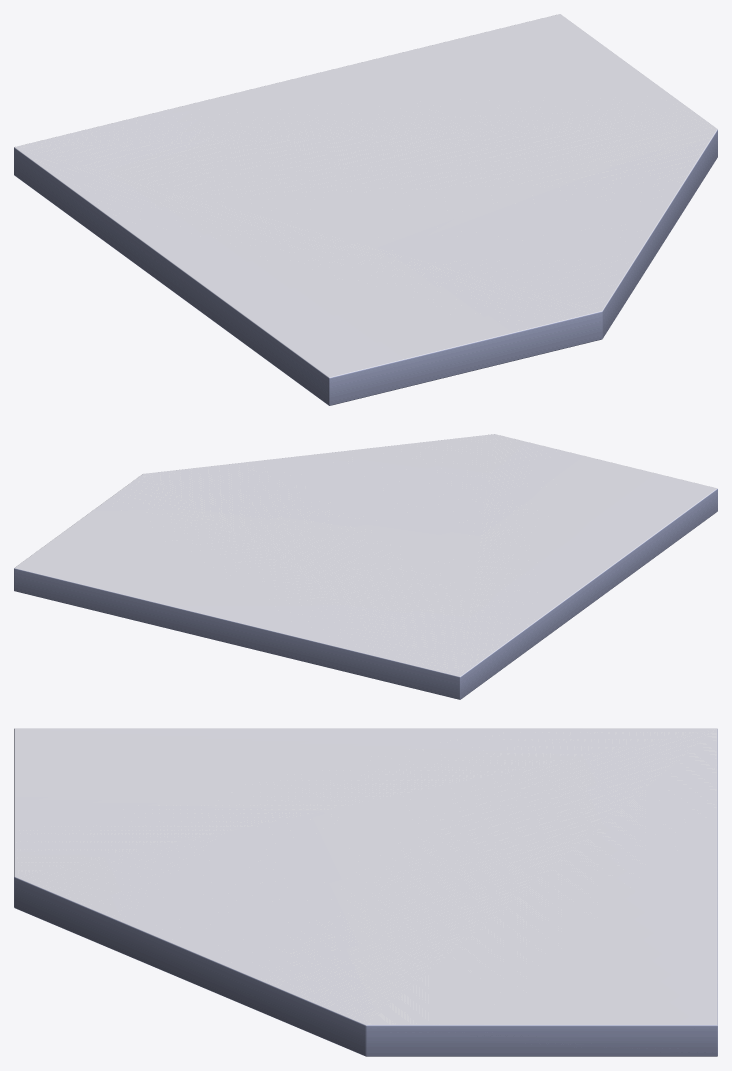
Rendered from floor-corner-diagonal.glb.
3 views of the same model, one above another, from view 1: azimuth 30°, elevation 25°; view 2: azimuth 150°, elevation 25°; view 3: azimuth 270°, elevation 25° (orthographic). The views are drawn at different scales.
Parts seen in each view (by area): view 1: floor-corner-diagonal; view 2: floor-corner-diagonal; view 3: floor-corner-diagonal.
Part boxes in pixels (x1,y1,x2,y2): floor-corner-diagonal: (14, 14, 717, 405); floor-corner-diagonal: (14, 434, 717, 699); floor-corner-diagonal: (14, 728, 717, 1056).
Size of the model in its own units: 2 by 0.1 by 2.
1 material, 1 textured.
